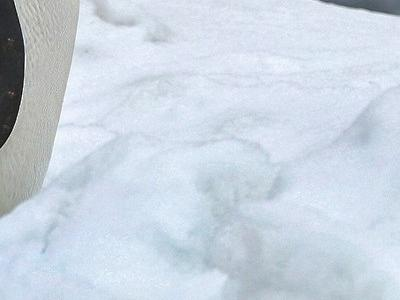Emperor Penguin: (0, 0, 159, 266)
